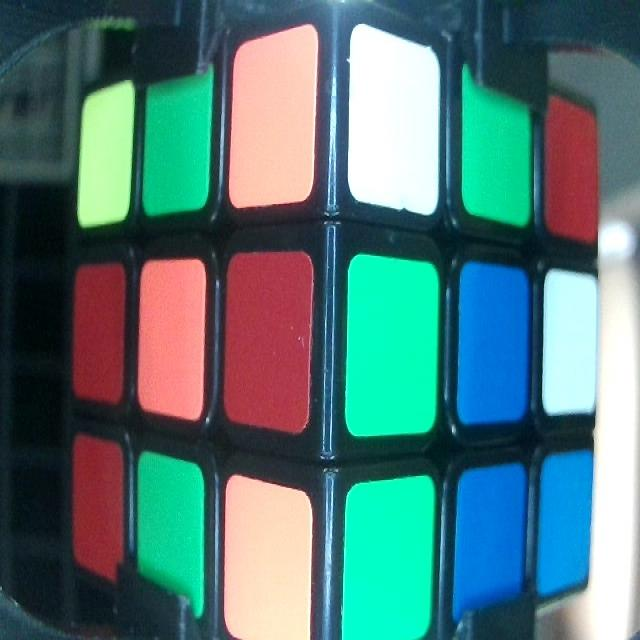b: (459, 264, 528, 419), (456, 468, 522, 621), (539, 456, 593, 594)
g: (349, 262, 437, 433), (344, 484, 429, 640), (464, 67, 529, 222), (136, 456, 202, 606), (146, 66, 207, 212)
o: (224, 477, 311, 640), (234, 39, 314, 200), (142, 262, 202, 418)
r: (228, 256, 308, 427), (72, 442, 120, 574), (549, 98, 598, 224), (76, 267, 122, 399)
w: (350, 26, 437, 201), (544, 270, 595, 414)
y: (81, 94, 130, 222)
